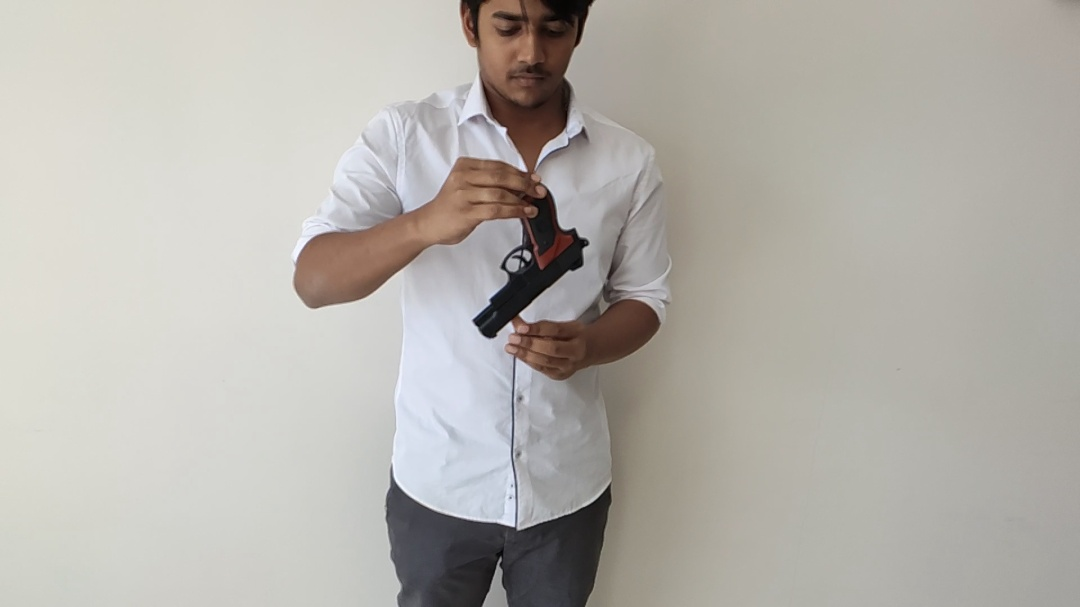gun: (471, 183, 591, 341)
